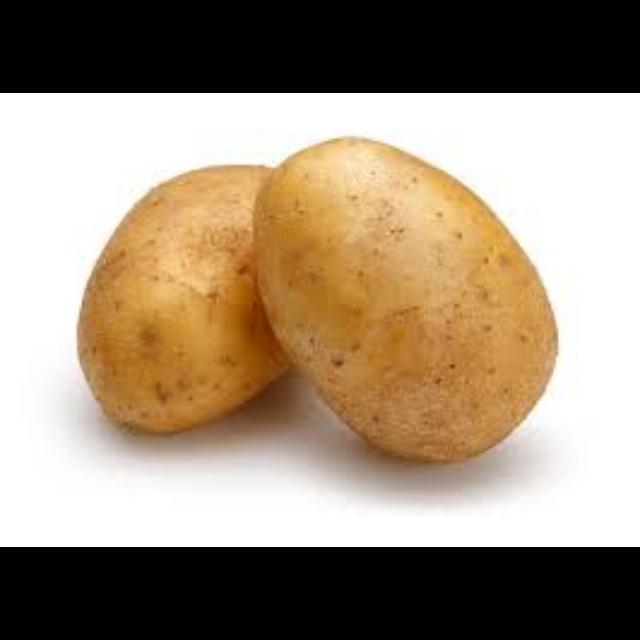Potato: (252, 134, 566, 472), (66, 158, 312, 446)
